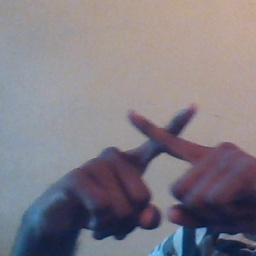X: (102, 96, 227, 222)
